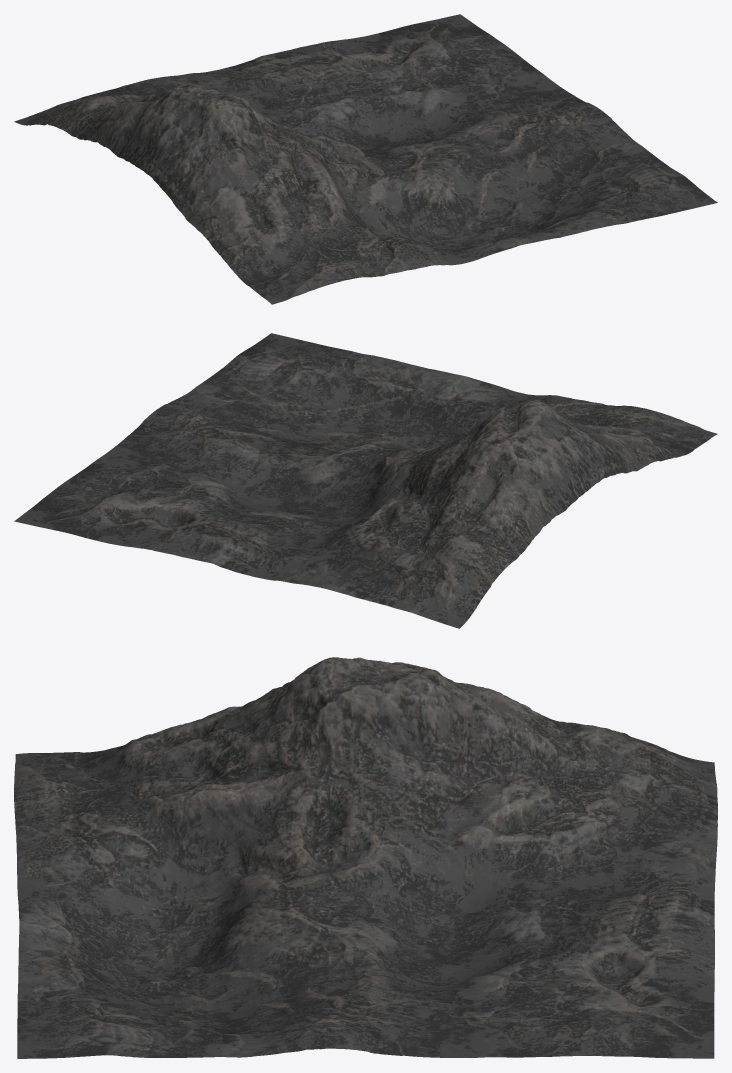
The model's file is stone__mountain (1).glb.
3 renders of one model, top to bottom at view 1: azimuth 30°, elevation 25°; view 2: azimuth 150°, elevation 25°; view 3: azimuth 270°, elevation 25°, orthographic. The views are drawn at different scales.
Visible parts, largest first — view 1: pPlane1_standardSurface1_0; view 2: pPlane1_standardSurface1_0; view 3: pPlane1_standardSurface1_0.
Boxes of the visible parts, x1,y1,x2,y2 form: pPlane1_standardSurface1_0: (14, 14, 717, 304); pPlane1_standardSurface1_0: (14, 333, 717, 628); pPlane1_standardSurface1_0: (14, 657, 717, 1058).
Size of the model in its own units: 0.7075 by 0.2072 by 0.7088.
Materials: 1 (1 with a texture image).
